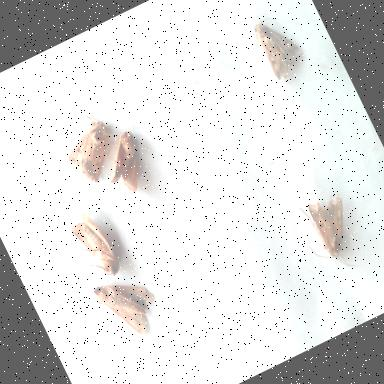abw: (63, 256, 171, 364), (284, 179, 376, 286), (48, 98, 134, 195), (55, 201, 132, 295), (237, 1, 314, 90), (89, 122, 163, 206)
